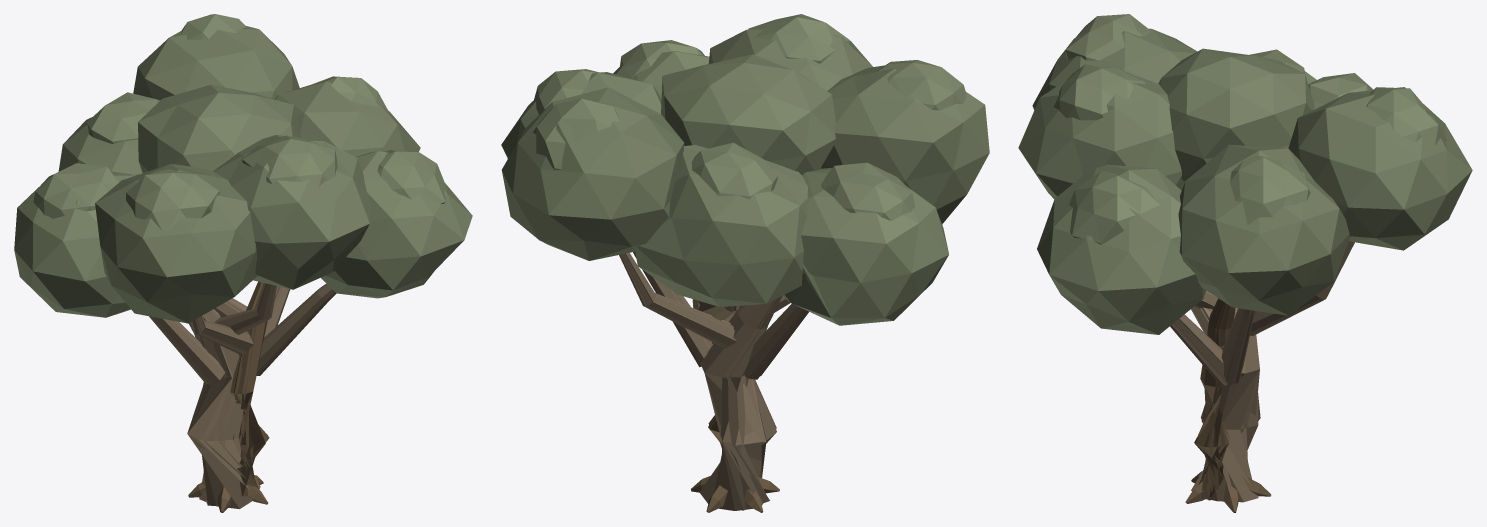
The model's file is olive.glb.
The picture shows the model from 3 angles, left to right: view 1: azimuth 30°, elevation 25°; view 2: azimuth 150°, elevation 25°; view 3: azimuth 270°, elevation 25°; orthographic projection. The views are drawn at different scales.
Parts seen in each view (by area): view 1: olive_detail, olive_medium, olive_far; view 2: olive_detail, olive_medium, olive_far; view 3: olive_detail, olive_medium, olive_far.
Boxes of the visible parts, box(x1,y1,x2,y2) form: olive_detail: box(14, 14, 472, 512); olive_medium: box(151, 283, 335, 505); olive_far: box(162, 282, 265, 509); olive_detail: box(501, 14, 989, 512); olive_medium: box(620, 252, 830, 510); olive_far: box(625, 253, 781, 491); olive_detail: box(1018, 14, 1472, 512); olive_medium: box(1172, 242, 1353, 499); olive_far: box(1179, 300, 1259, 492).
Bounding box in the file's own units: 5.63 × 5.65 × 5.32.
